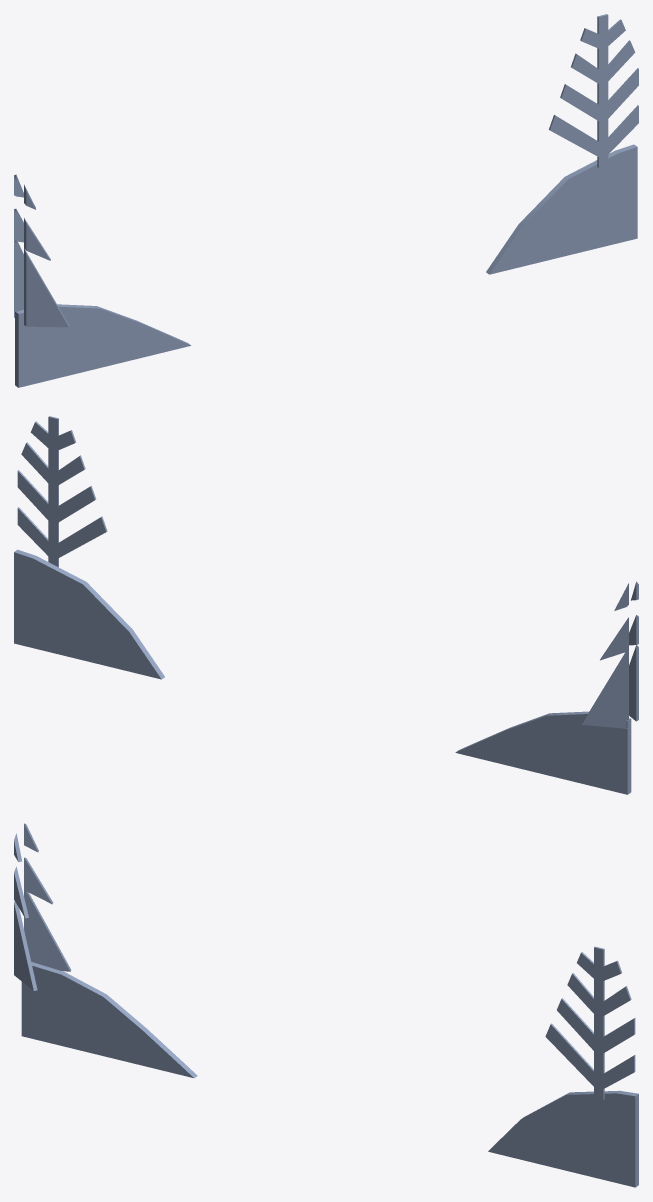
Rendered from frame_0160.glb.
3 views of the same model, one above another, from view 1: azimuth 30°, elevation 25°; view 2: azimuth 150°, elevation 25°; view 3: azimuth 330°, elevation 25° (orthographic).
Parts seen in each view (by area): view 1: export_trees_001.002; view 2: export_trees_001.002; view 3: export_trees_001.002.
Boxes of the visible parts, left/top/right/bottom form: export_trees_001.002: left=14, top=14, right=638, bottom=387; export_trees_001.002: left=14, top=416, right=638, bottom=794; export_trees_001.002: left=14, top=823, right=638, bottom=1187.
Bounding box in the file's own units: 0.4327 × 0.1555 × 0.0377.
